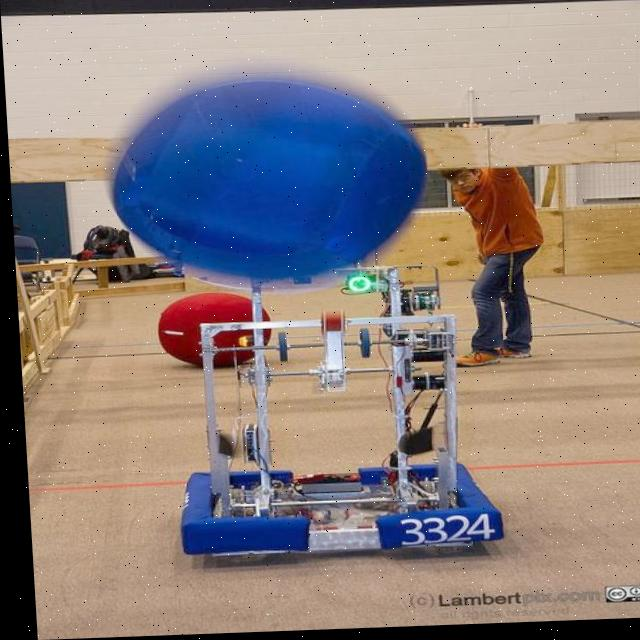robot: (150, 246, 517, 574)
